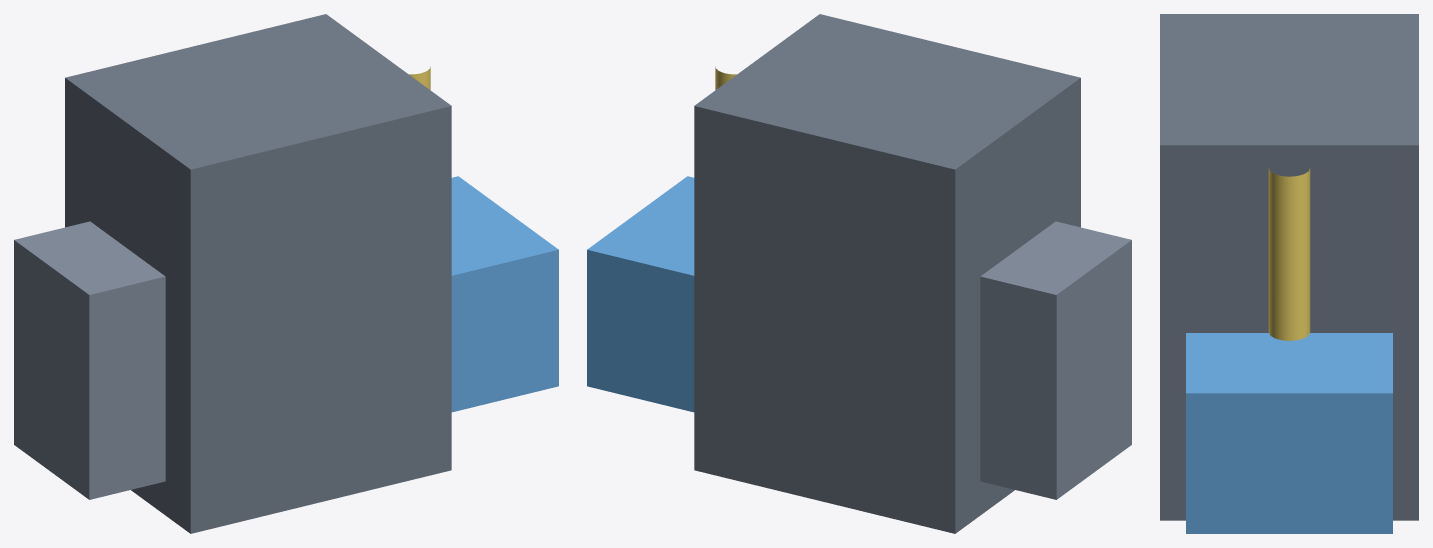
File: unconventional_machining_edm.glb
The picture shows the model from 3 angles, left to right: view 1: azimuth 30°, elevation 25°; view 2: azimuth 150°, elevation 25°; view 3: azimuth 270°, elevation 25°; orthographic projection. The views are drawn at different scales.
Parts seen in each view (by area): view 1: EDMColumnMainChassis, EDMPulsePowerSupplyUnit, DielectricFluidWorkTank; view 2: EDMColumnMainChassis, EDMPulsePowerSupplyUnit, DielectricFluidWorkTank; view 3: EDMColumnMainChassis, DielectricFluidWorkTank, ServoElectrodeToolHolder.
Boxes of the visible parts, x1=… form: EDMColumnMainChassis: x1=65, y1=14, x2=451, y2=533; EDMPulsePowerSupplyUnit: x1=14, y1=221, x2=165, y2=499; DielectricFluidWorkTank: x1=451, y1=176, x2=558, y2=412; EDMColumnMainChassis: x1=694, y1=14, x2=1080, y2=533; EDMPulsePowerSupplyUnit: x1=980, y1=221, x2=1131, y2=499; DielectricFluidWorkTank: x1=587, y1=176, x2=694, y2=412; EDMColumnMainChassis: x1=1160, y1=14, x2=1418, y2=520; DielectricFluidWorkTank: x1=1186, y1=333, x2=1392, y2=533; ServoElectrodeToolHolder: x1=1268, y1=168, x2=1310, y2=340.
Size of the model in its own units: 2.1 by 1.6 by 1.
